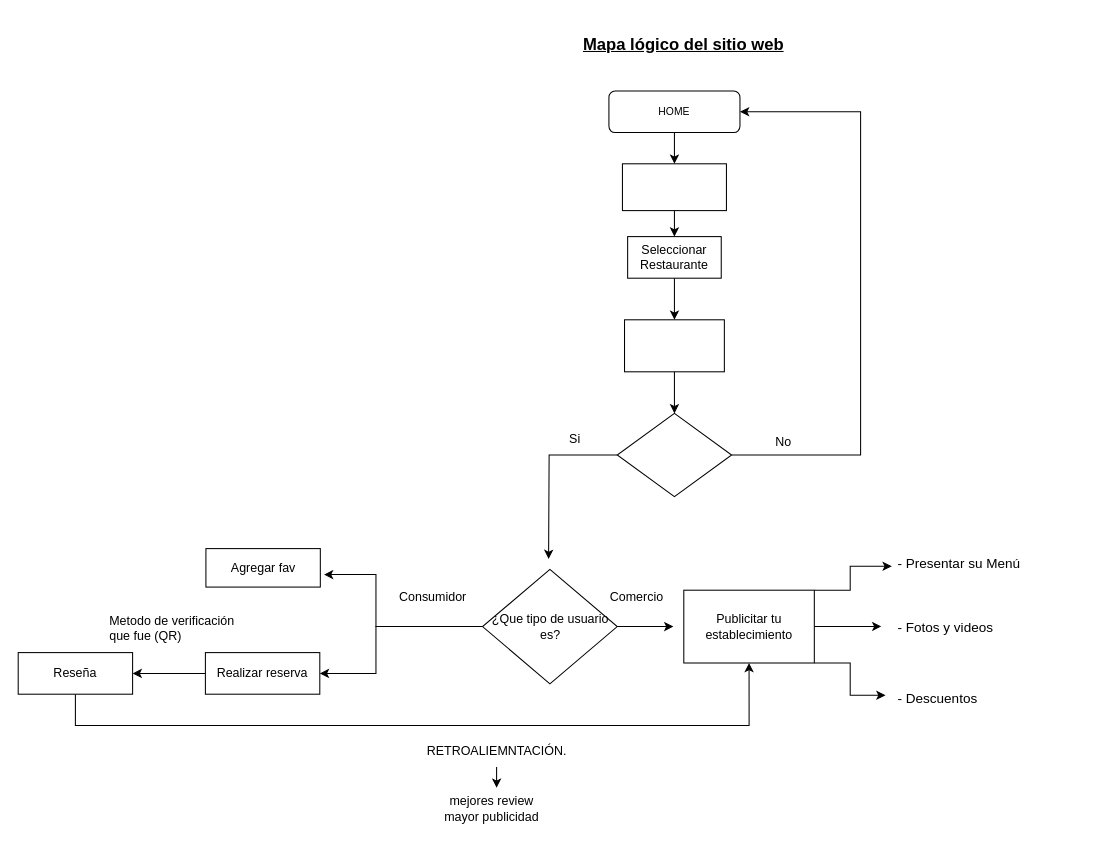
This 1108x847 diagram has some shape labels left out. Here are the shapes that lost their labels. From the top down, the centre of each, then its label:
At point 673,187: "Buscador de restaurantes".
At point 673,345: "Detalles del restaurante".
At point 674,454: "¿Logeado?".
